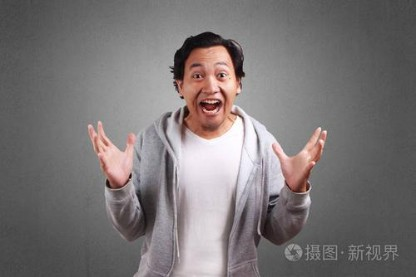张嘴: (193, 93, 227, 117)
